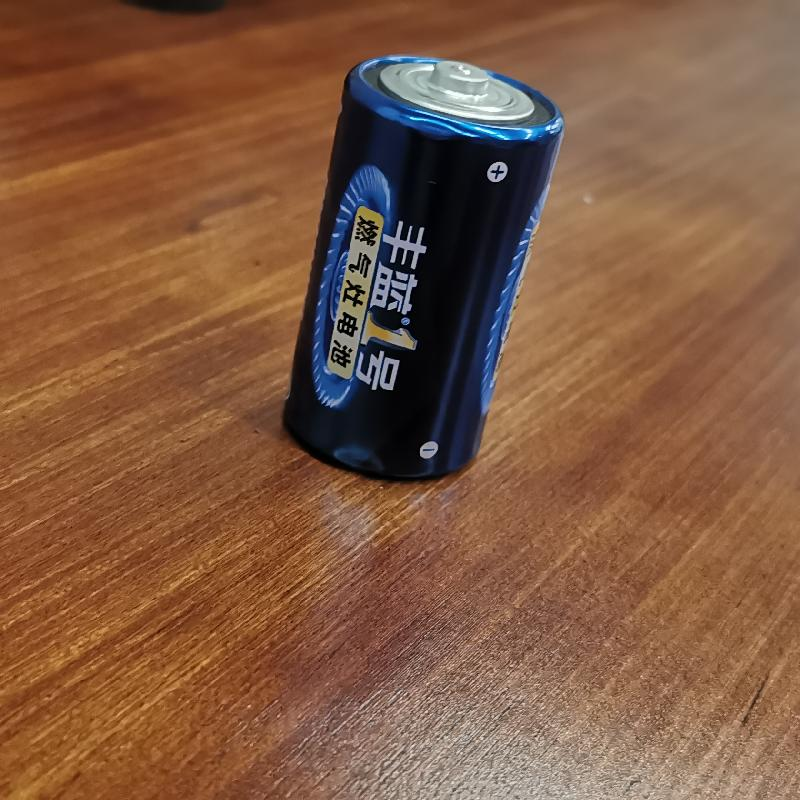battery: (279, 49, 564, 485)
